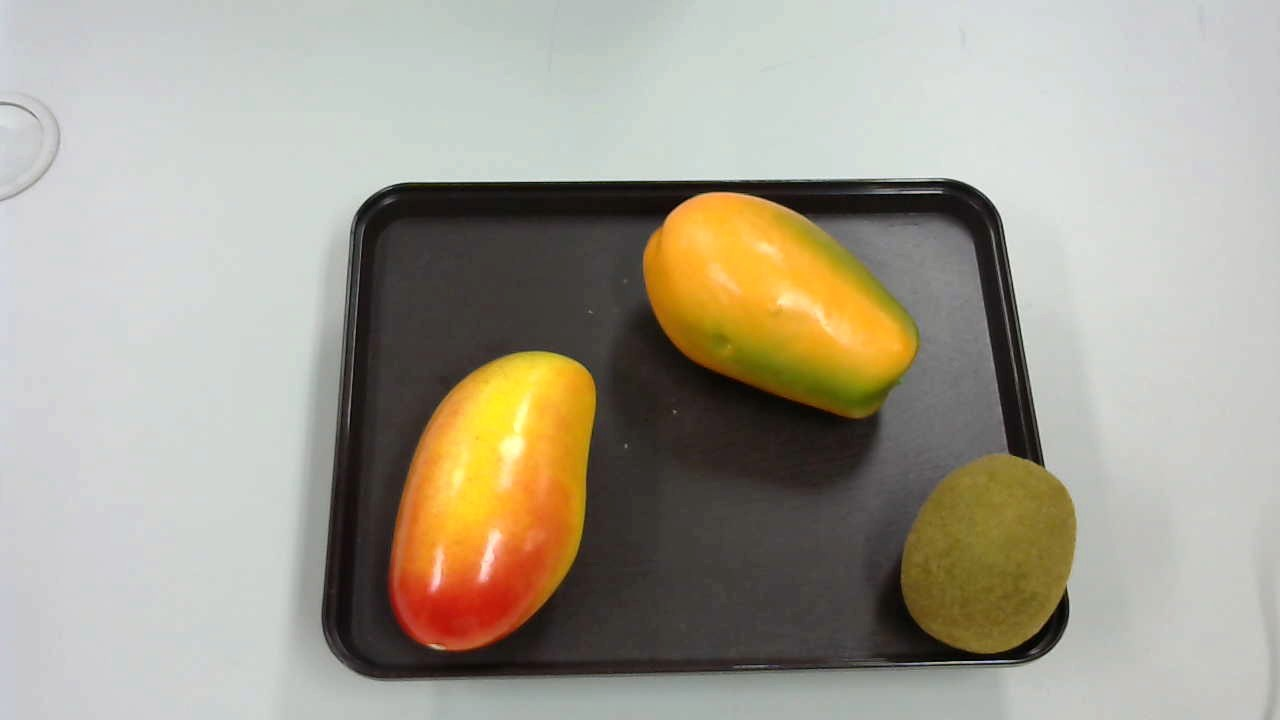kiwi fruit: (893, 450, 1088, 661)
papya: (641, 191, 928, 424)
red mango: (388, 348, 595, 650)
